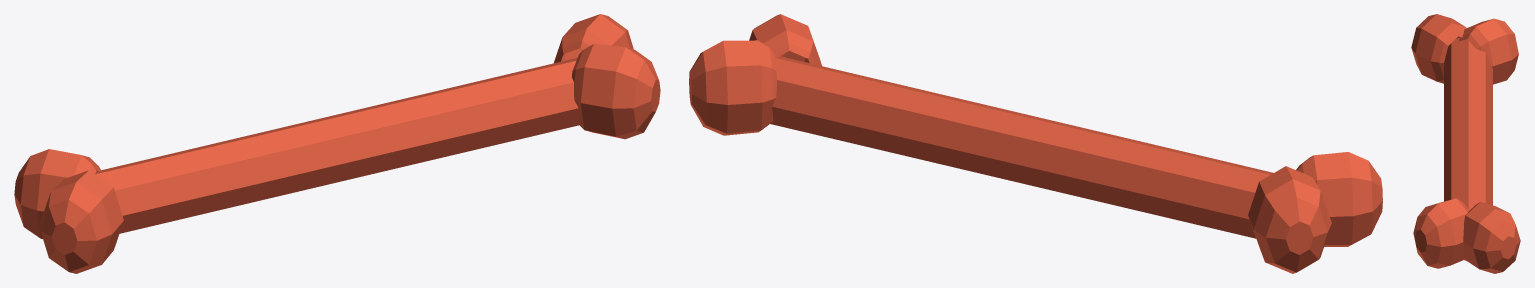
File: SM_Huesos01.fbx
3 renders of one model, left to right at view 1: azimuth 30°, elevation 25°; view 2: azimuth 150°, elevation 25°; view 3: azimuth 270°, elevation 25°, orthographic. The views are drawn at different scales.
Parts seen in each view (by area): view 1: Cylinder, Cylinder.004, Cylinder.005, Cylinder.002, Cylinder.003; view 2: Cylinder, Cylinder.003, Cylinder.002, Cylinder.005, Cylinder.004; view 3: Cylinder, Cylinder.003, Cylinder.004, Cylinder.005, Cylinder.002.
Part boxes in pixels (left/top/right/bottom): Cylinder: left=95, top=58, right=578, bottom=233; Cylinder.004: left=572, top=43, right=660, bottom=139; Cylinder.005: left=40, top=170, right=123, bottom=273; Cylinder.002: left=14, top=149, right=101, bottom=239; Cylinder.003: left=554, top=14, right=633, bottom=63; Cylinder: left=770, top=56, right=1273, bottom=238; Cylinder.003: left=689, top=40, right=776, bottom=135; Cylinder.002: left=1248, top=166, right=1331, bottom=273; Cylinder.005: left=1296, top=152, right=1382, bottom=246; Cylinder.004: left=749, top=14, right=821, bottom=65; Cylinder: left=1444, top=37, right=1492, bottom=260; Cylinder.003: left=1463, top=202, right=1520, bottom=273; Cylinder.004: left=1413, top=198, right=1469, bottom=268; Cylinder.005: left=1411, top=14, right=1466, bottom=83; Cylinder.002: left=1459, top=18, right=1518, bottom=84.
Bounding box in the file's own units: 275 × 38.81 × 59.05.
